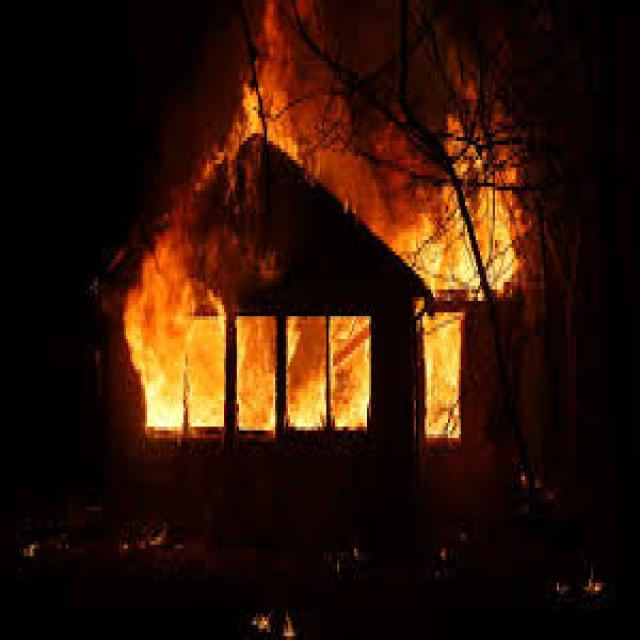fire: (71, 8, 535, 462)
